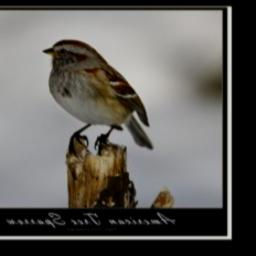Sparrow: (43, 38, 154, 157)
